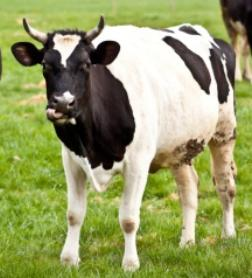cow: (11, 26, 235, 274)
